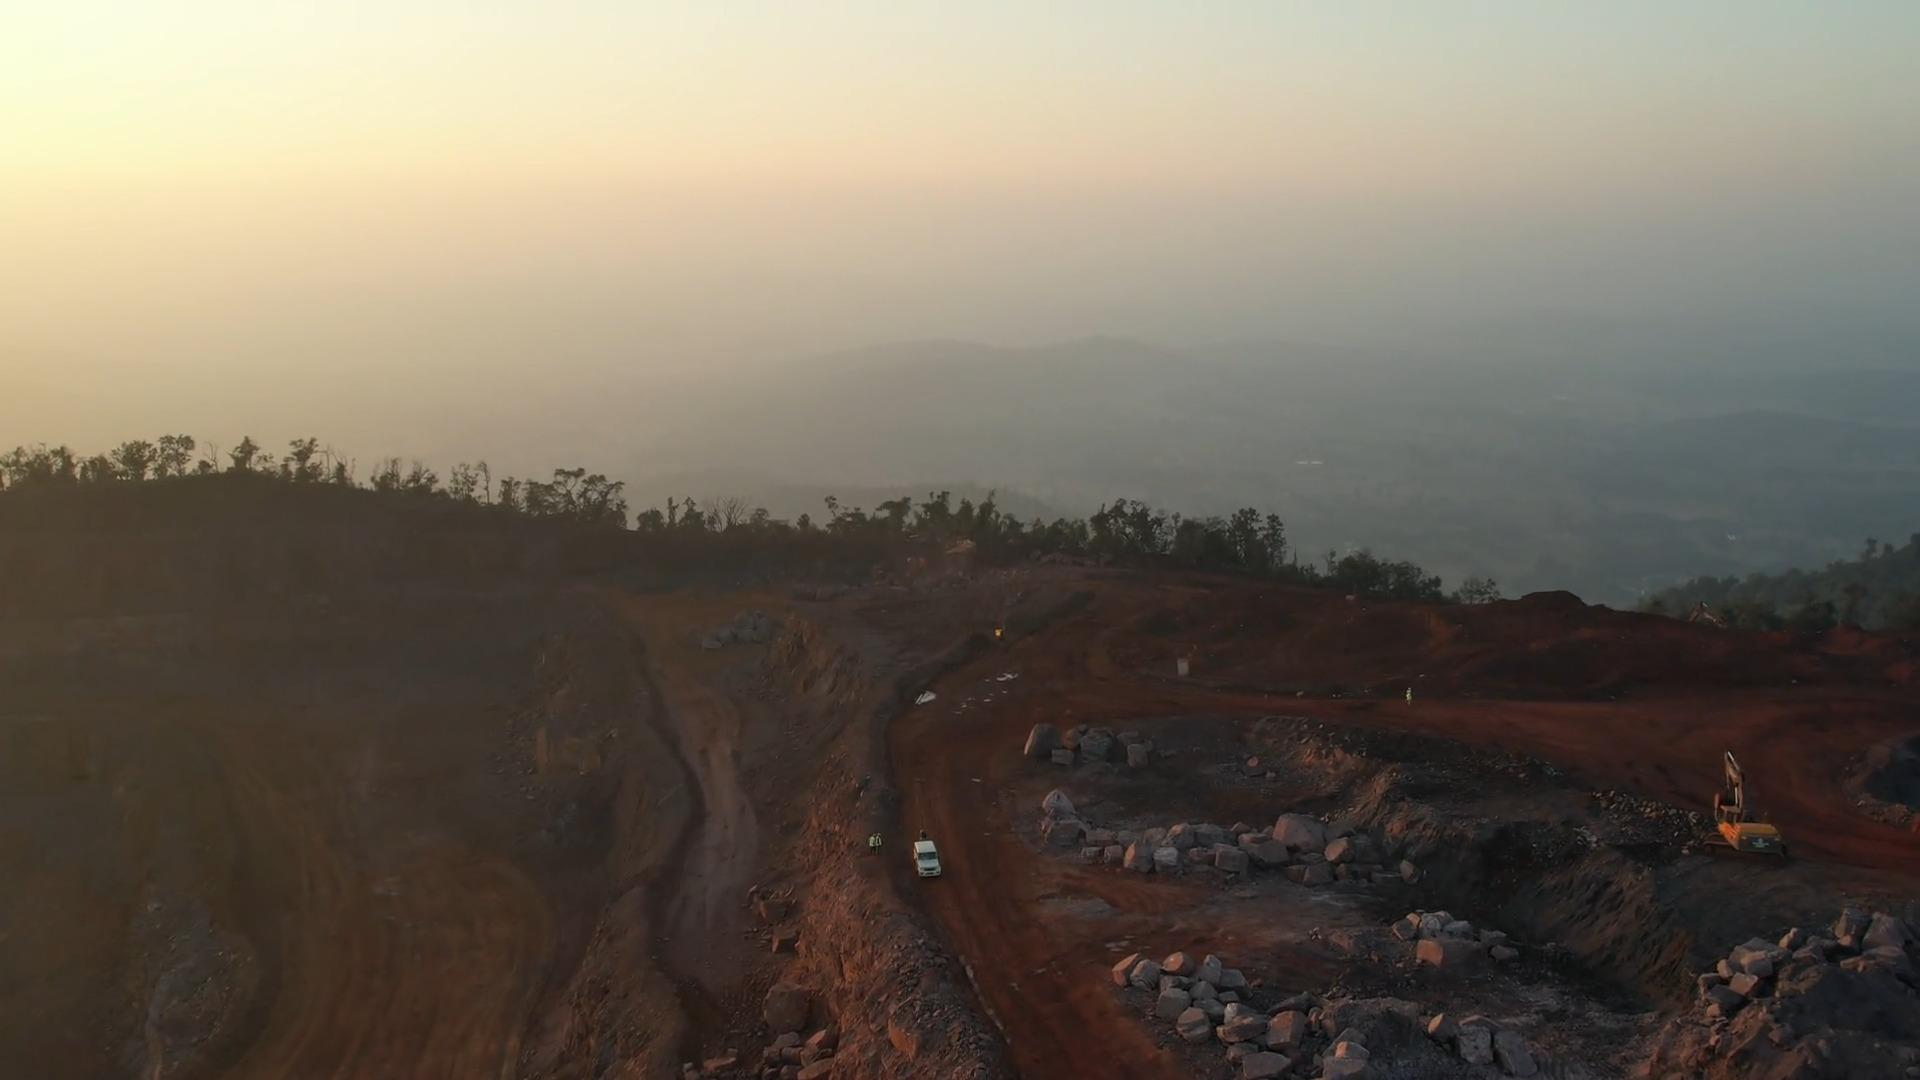excavator: (1709, 749, 1788, 864)
